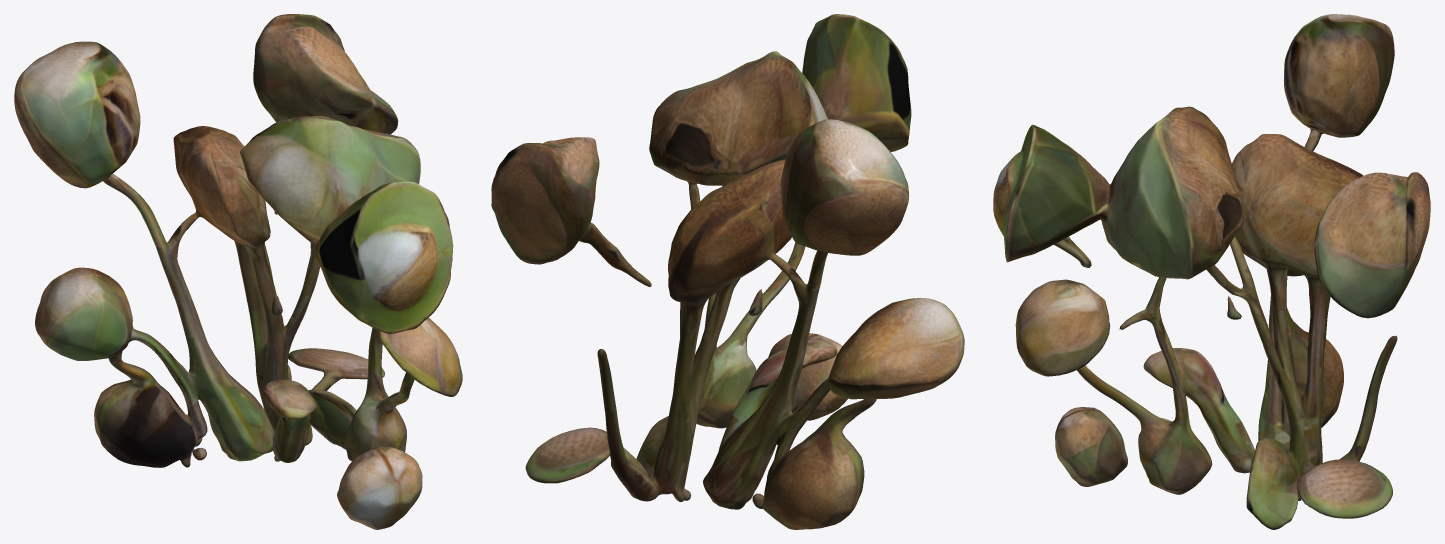
The model's file is TREE0059.gltf.
3 views of the same model, side by side, from view 1: azimuth 30°, elevation 25°; view 2: azimuth 150°, elevation 25°; view 3: azimuth 270°, elevation 25° (orthographic). The views are drawn at different scales.
Parts seen in each view (by area): view 1: Mesh_0.055; view 2: Mesh_0.055; view 3: Mesh_0.055.
Boxes of the visible parts, left/top/right/bottom form: Mesh_0.055: left=14, top=14, right=462, bottom=529; Mesh_0.055: left=491, top=14, right=964, bottom=529; Mesh_0.055: left=993, top=14, right=1430, bottom=529.
Size of the model in its own units: 1.86 by 1.99 by 1.93.
1 material, 1 textured.
